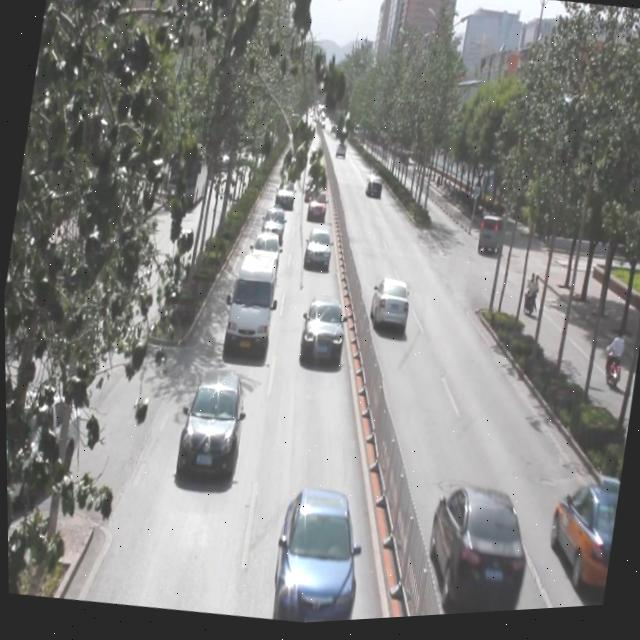car: (420, 477, 534, 621), (266, 485, 363, 628), (539, 476, 620, 599), (172, 365, 250, 489), (294, 296, 347, 376), (365, 278, 410, 340), (300, 230, 334, 279), (249, 231, 281, 275), (258, 208, 285, 249), (273, 179, 298, 214), (305, 193, 328, 225), (301, 179, 322, 209)
truck: (222, 250, 282, 358)
